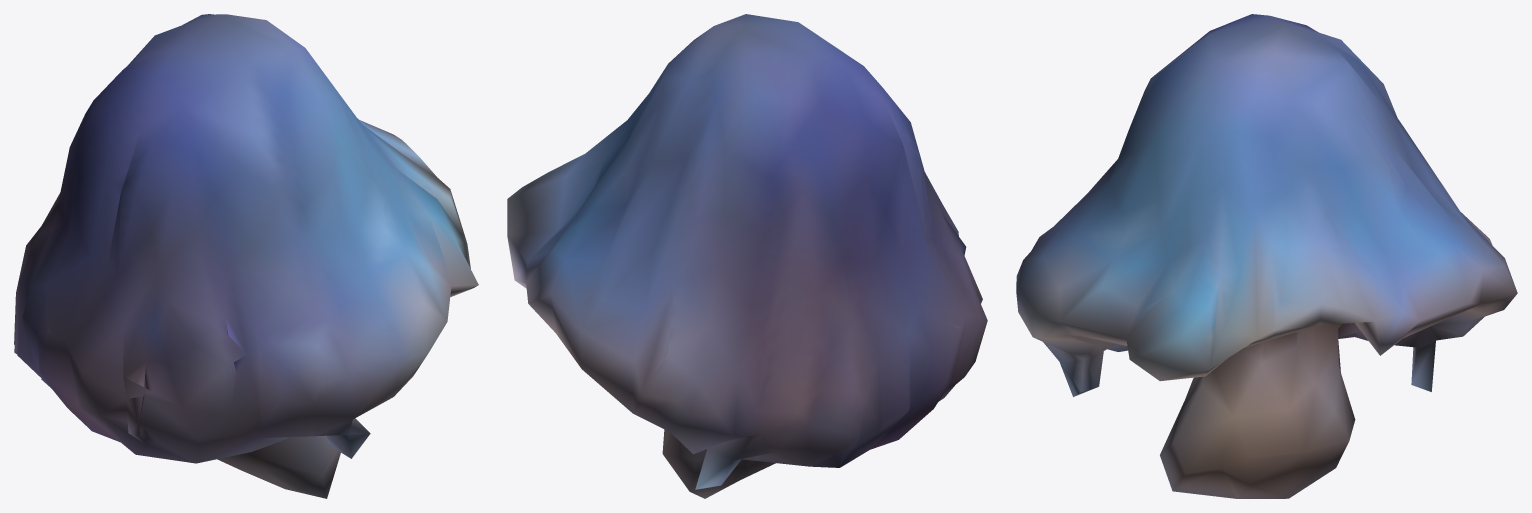
The model's file is bellcap.glb.
3 renders of one model, left to right at view 1: azimuth 30°, elevation 25°; view 2: azimuth 150°, elevation 25°; view 3: azimuth 270°, elevation 25°, orthographic. The views are drawn at different scales.
Parts seen in each view (by area): view 1: model; view 2: model; view 3: model.
Boxes of the visible parts, x1,y1,x2,y2 form: model: [14, 14, 478, 498]; model: [507, 14, 987, 498]; model: [1016, 14, 1517, 498].
Bounding box in the file's own units: 0.3654 × 0.4003 × 0.4001.
1 material, 1 textured.
